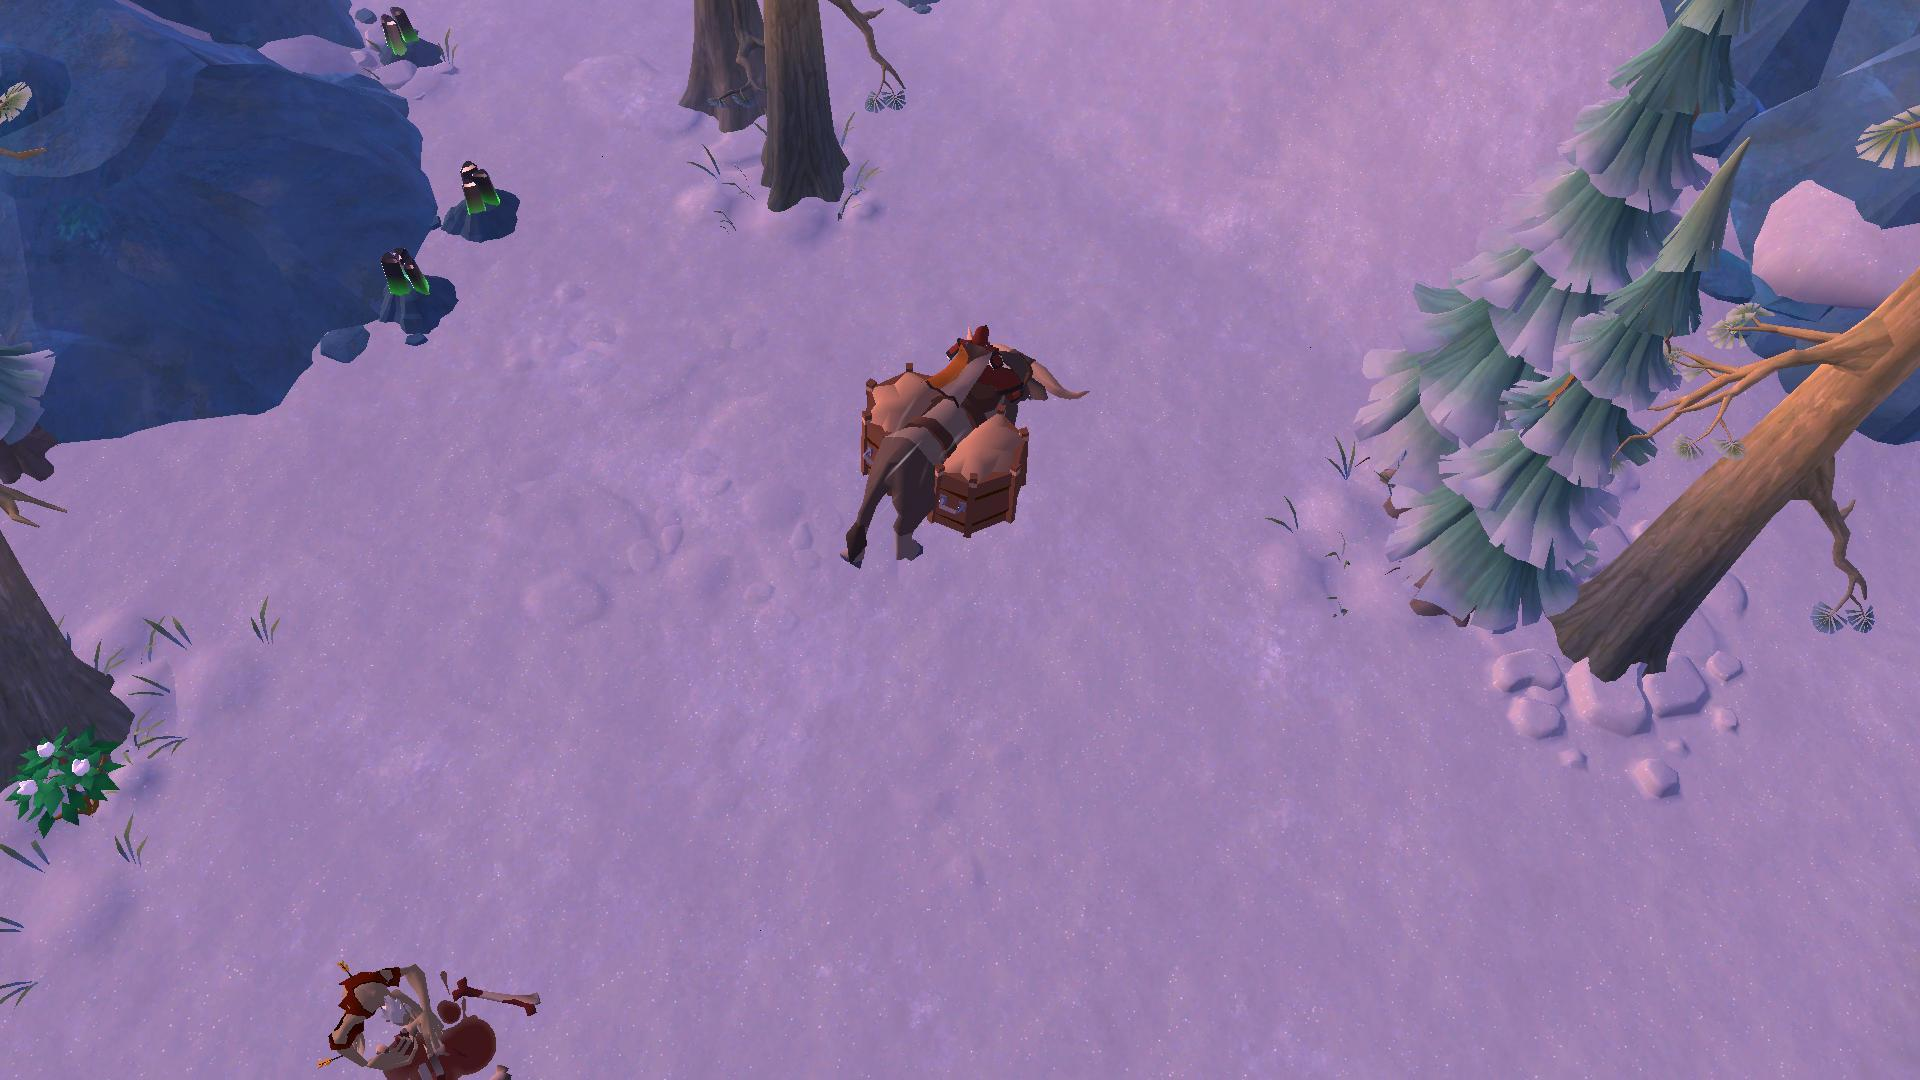enemy_factionUndead: (323, 931, 448, 1069)
fiber_t3: (4, 728, 124, 844)
ore_t3: (455, 149, 501, 224), (376, 244, 434, 295), (377, 0, 422, 63)
